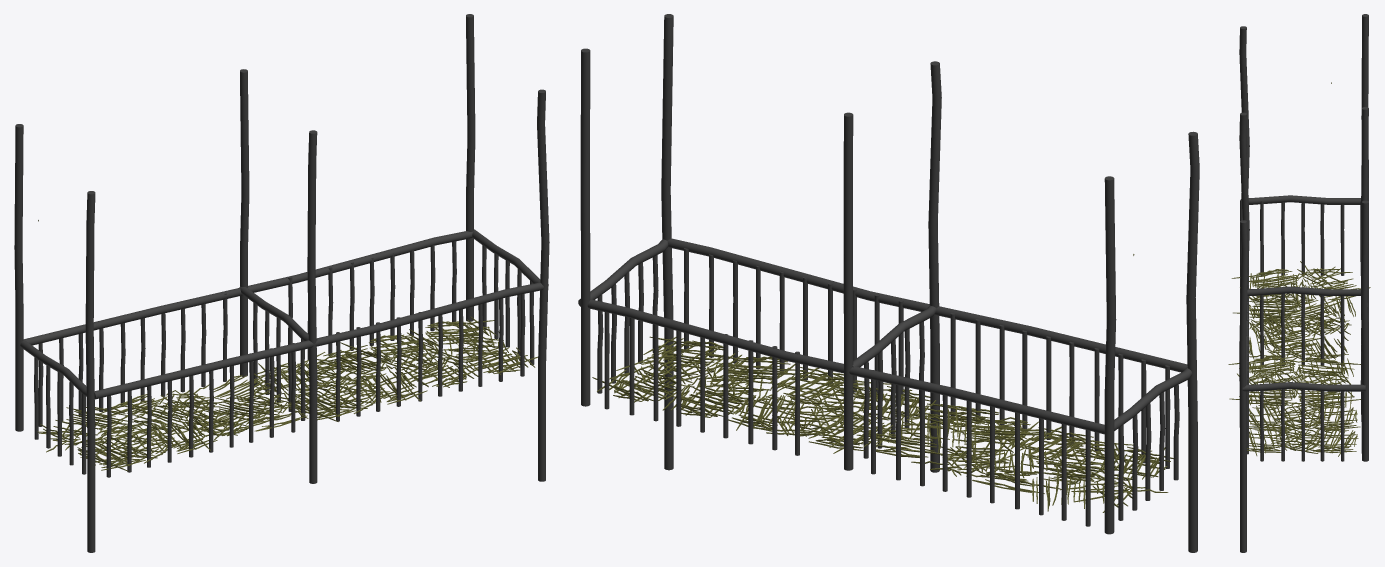
Rendered from stage4 cage.fbx.
The picture shows the model from 3 angles, left to right: view 1: azimuth 30°, elevation 25°; view 2: azimuth 150°, elevation 25°; view 3: azimuth 270°, elevation 25°; orthographic projection. The views are drawn at different scales.
Visible parts, largest first — view 1: Object003; view 2: Object003; view 3: Object003.
Part boxes in pixels (x1,y1,x2,y2): Object003: (14, 14, 549, 552); Object003: (578, 14, 1199, 552); Object003: (1228, 14, 1370, 552).
Size of the model in its own units: 110 by 33.64 by 91.27.
